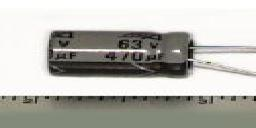Electrolytic Capacitor: (40, 20, 256, 86)
